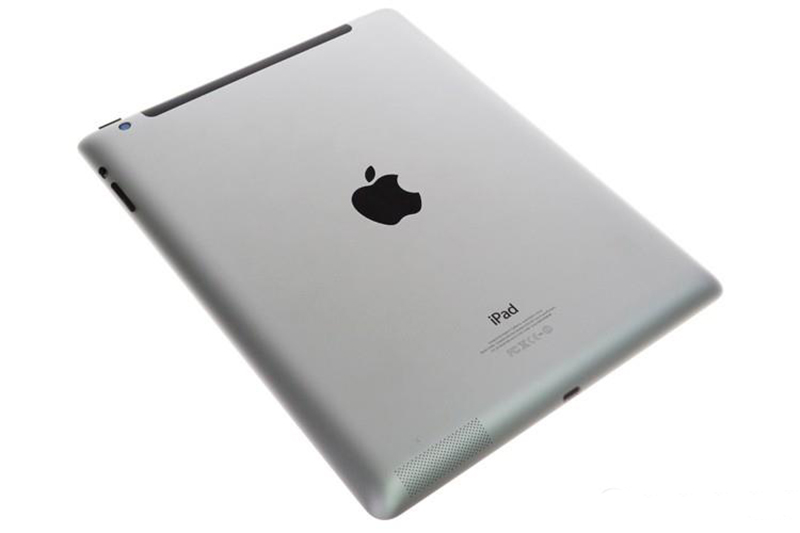Apple: (335, 150, 447, 233), (479, 293, 524, 329)
